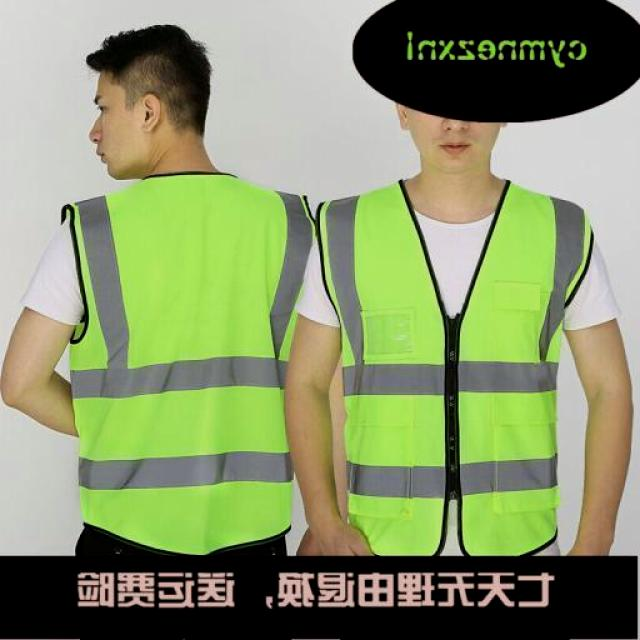face_nomask: (83, 86, 136, 172)
head_nohelmet: (87, 15, 213, 96)
person: (0, 16, 339, 556)
vest: (316, 178, 590, 554), (56, 172, 316, 552)
